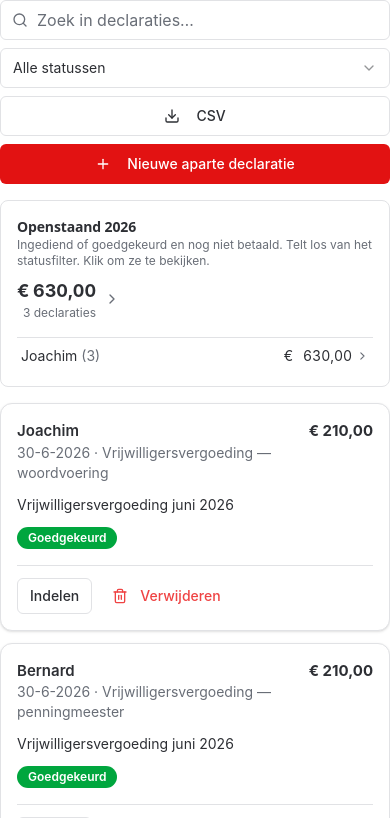
Test case: InternalDeclarationsView open totaal › maandvergoedingen tonen juiste soort en maand in kaart, tabel en openstaand-venster; geen Wijzigen
Click the button with aria-label "Bekijk openstaande declaraties". click: click(195, 269)
box: x1=1 y1=201 x2=389 y2=337
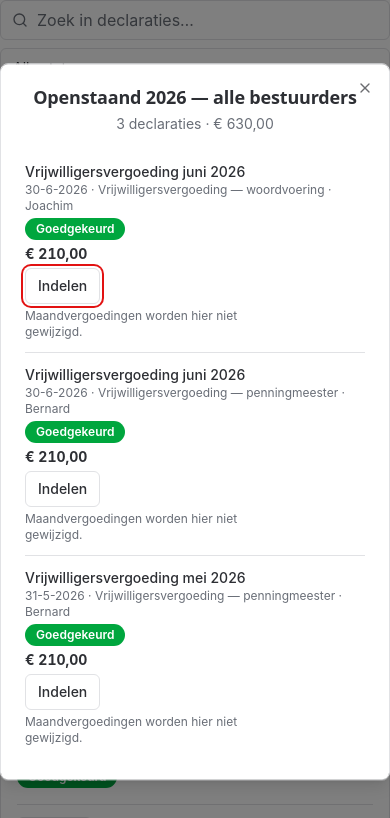
Expected: the list with test id "drill-list" is shown
Expected: the list with test id "drill-list" shows "Vrijwilligersvergoeding — woordvoering", x1=98 y1=182 x2=324 y2=197
Expected: the list with test id "drill-list" shows "Vrijwilligersvergoeding mei 2026", x1=25 y1=569 x2=246 y2=586
